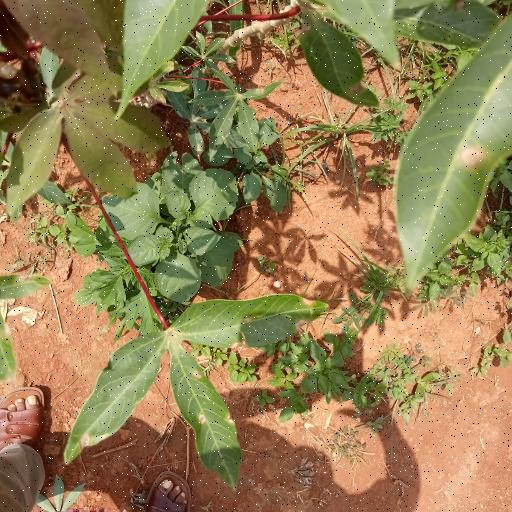Cassava_Brown_Leaf_Spot: (68, 297, 325, 473)
